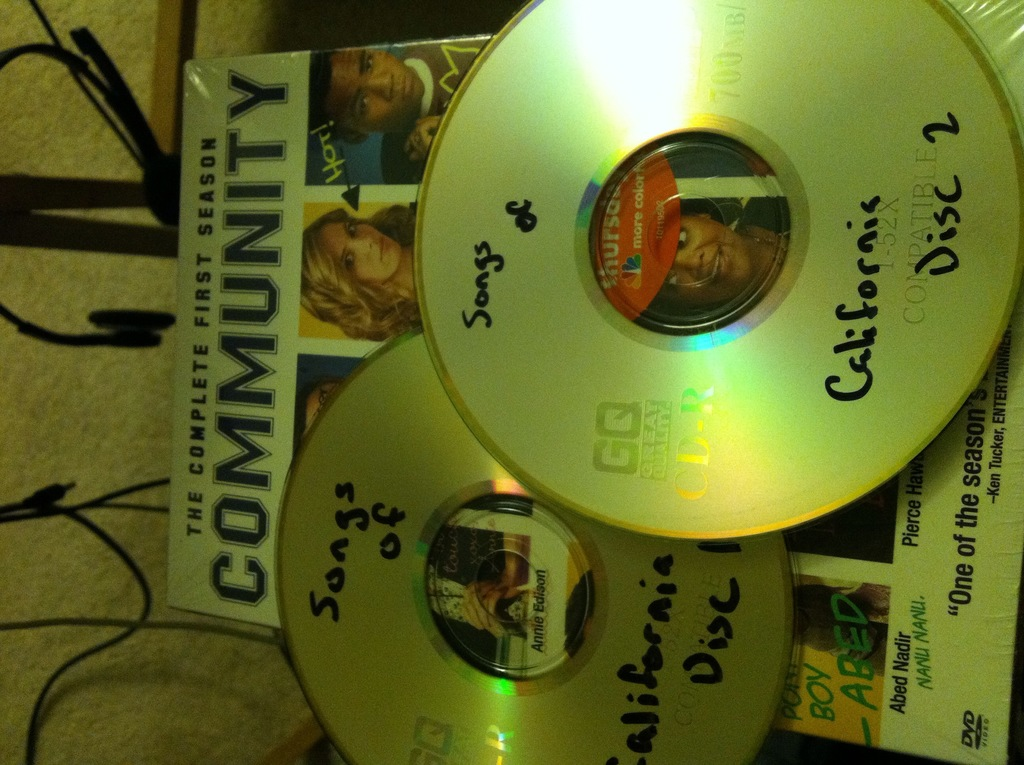person: (301, 202, 423, 343)
